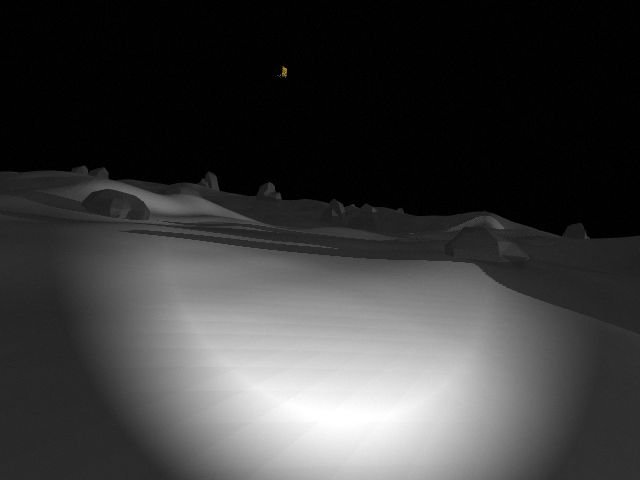cubesat: (270, 63, 288, 80)
